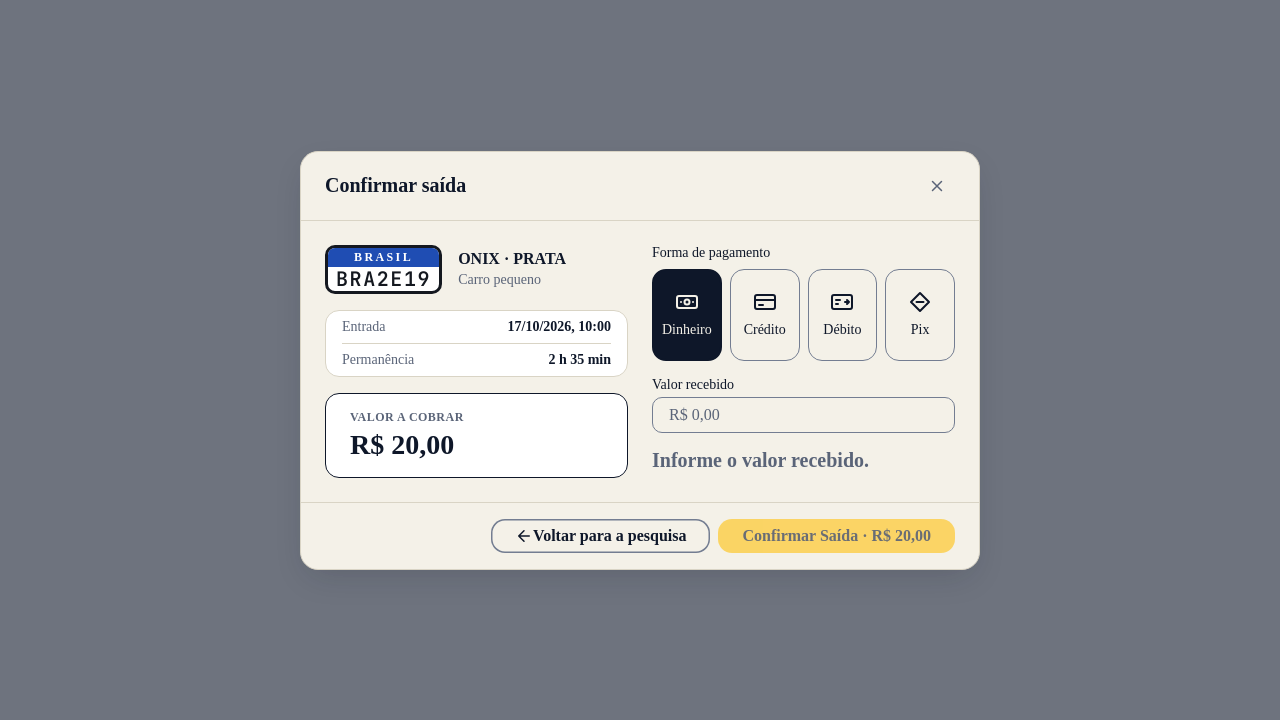
Test: SaidaVeiculoModal: fase de pagamento › em Pix não há valor recebido e a saída pode ser confirmada direto
Expected: the text "ONIX · PRATA" is shown, [458,250,566,268]
Click the radio button labelled "Pix" at (920, 314), box [885,268,955,360]
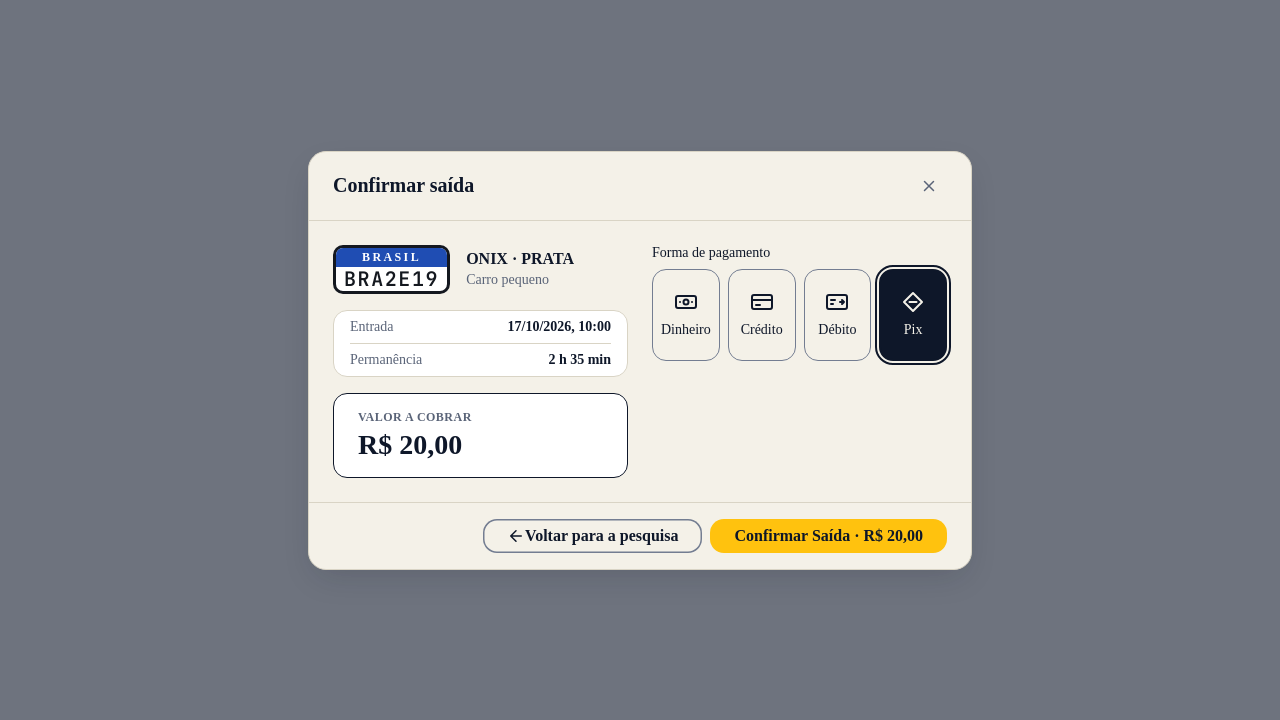
Now the label labelled "Valor recebido" is gone
